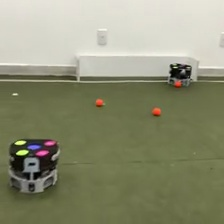ball: (151, 105, 162, 117), (94, 97, 104, 107), (174, 79, 182, 88)
goal: (74, 54, 200, 84)
robot: (7, 137, 63, 196), (168, 61, 192, 87)
